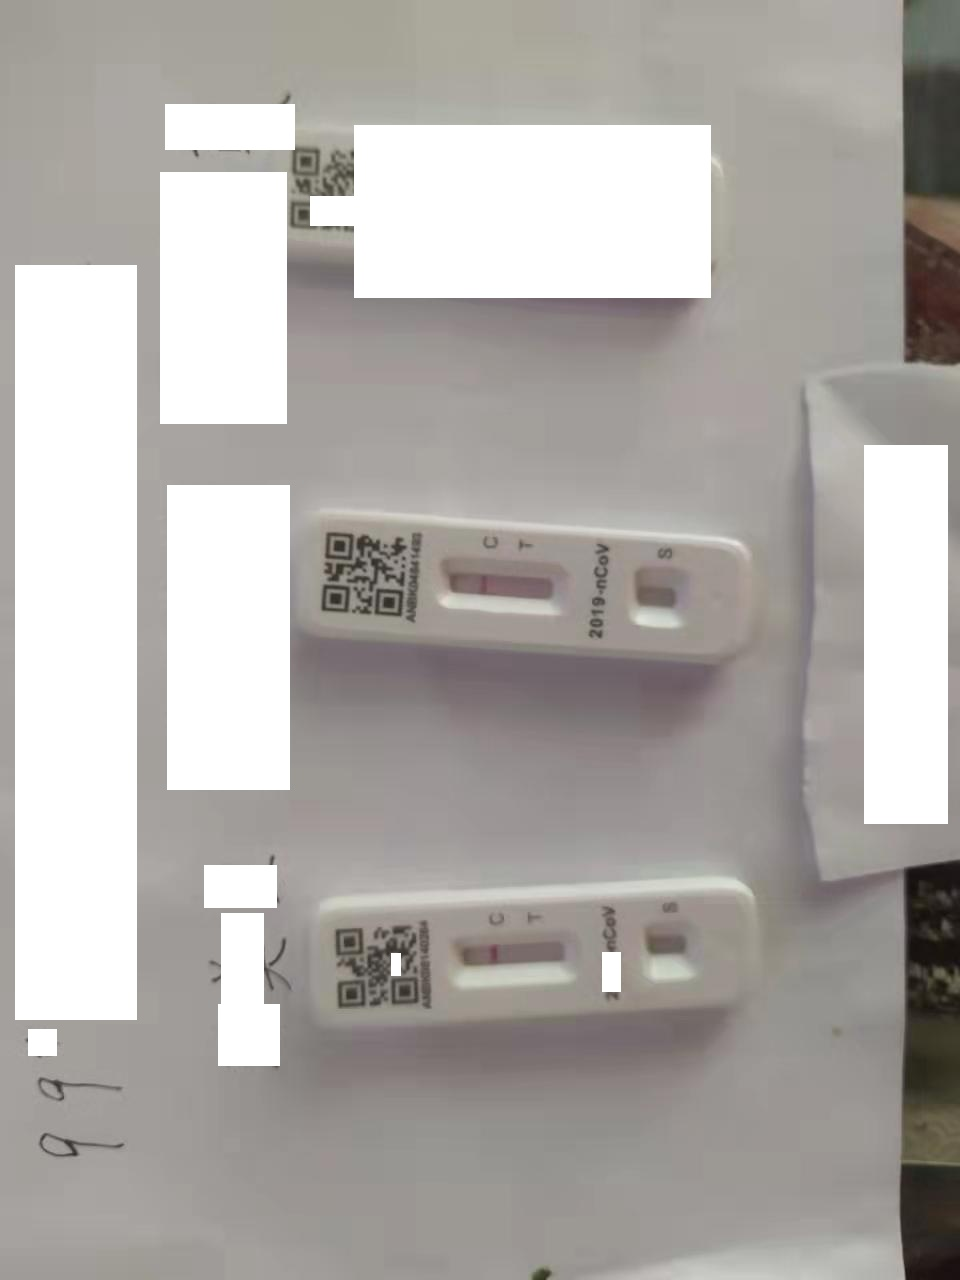negative: (436, 550, 572, 615)
